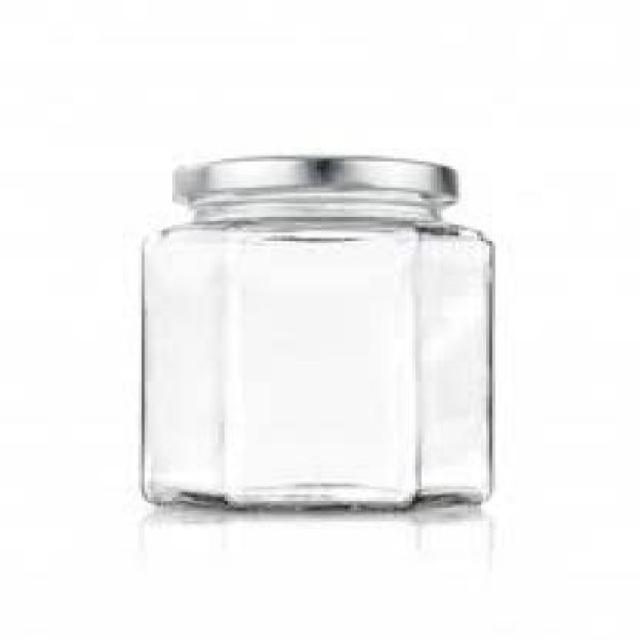kaca: (142, 194, 486, 514)
